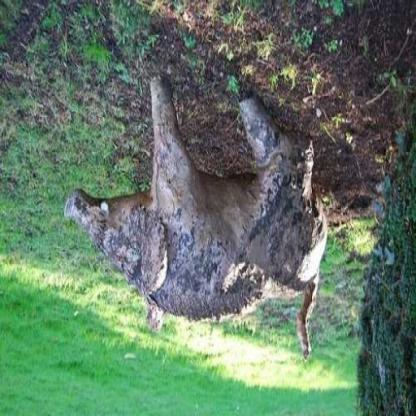boar: (31, 64, 332, 344)
